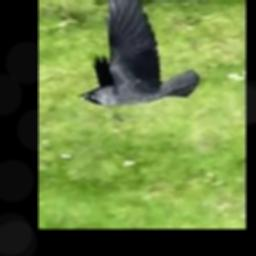Crow: (78, 0, 200, 107)
